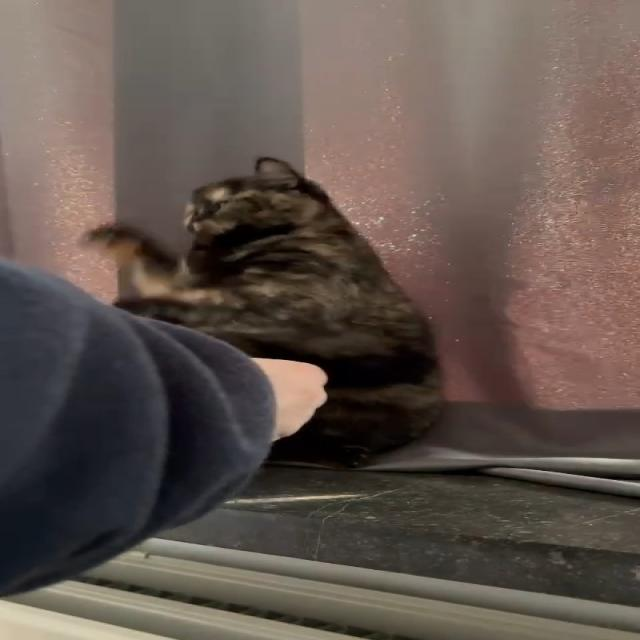authorized: (83, 156, 445, 468)
